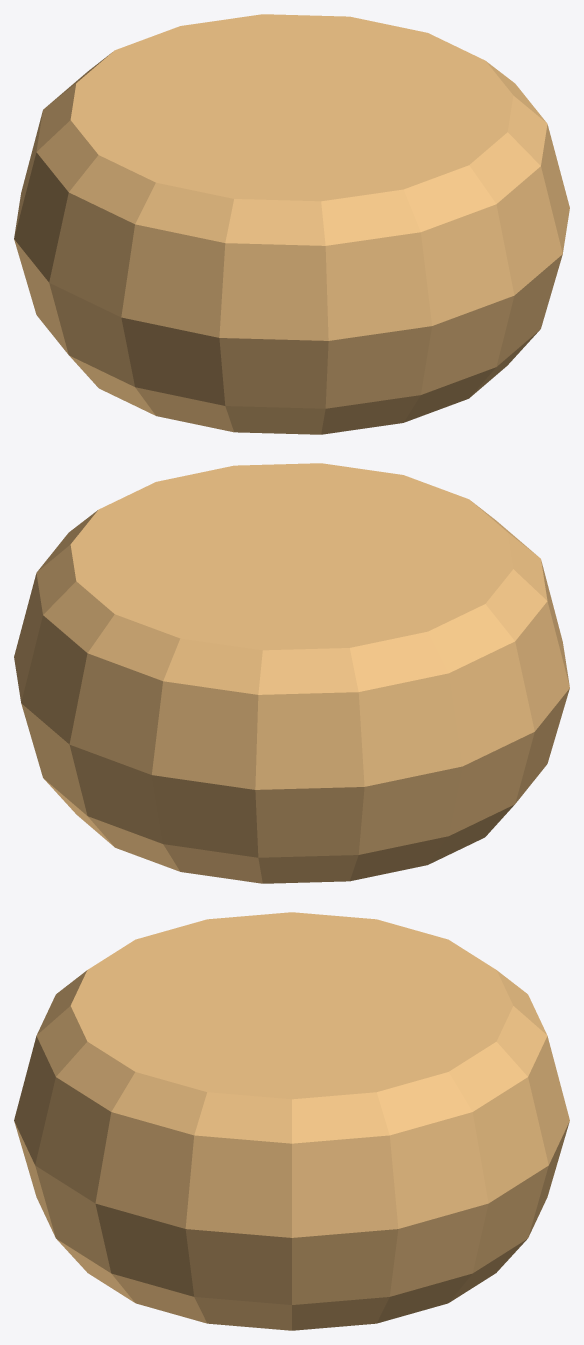
The model's file is LowPoly_Cheese01.fbx.
3 renders of one model, top to bottom at view 1: azimuth 30°, elevation 25°; view 2: azimuth 150°, elevation 25°; view 3: azimuth 270°, elevation 25°, orthographic.
Parts seen in each view (by area): view 1: Cheese; view 2: Cheese; view 3: Cheese.
Boxes of the visible parts, box(x1,y1,x2,y2) form: Cheese: box(14, 14, 569, 434); Cheese: box(14, 463, 569, 883); Cheese: box(14, 912, 569, 1330).
Bounding box in the file's own units: 79.96 × 36.75 × 79.96.
